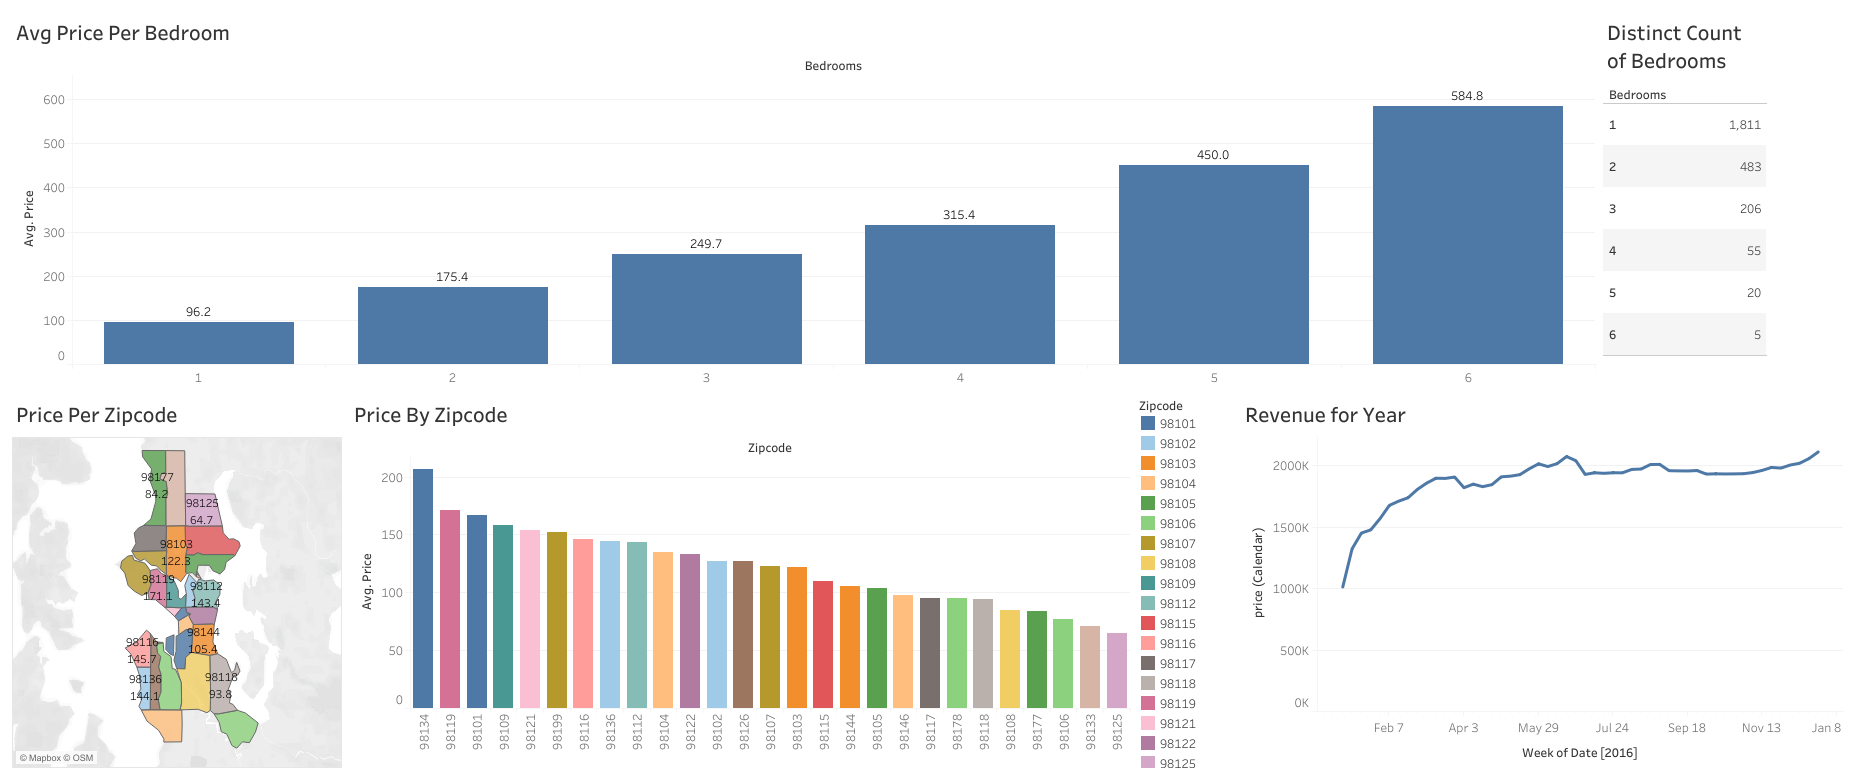

The page's visual inventory and layout, read from the dashboard file:
{"tool":"tableau","page":{"name":"Dashboard 1","canvas":[1000,1000],"units":"permille","ordinal":0},"visuals":[{"type":"worksheet","title":"Sheet 4","mark":"Automatic","rows":["price"],"cols":["bedrooms"],"box":[4.7,8.9,857.2,491.1]},{"type":"worksheet","title":"Sheet 5","mark":"Automatic","rows":["bedrooms"],"box":[861.9,8.9,133.4,491.1]},{"type":"worksheet","title":"Sheet 2","mark":"Multipolygon","box":[4.7,500,182.2,491.1]},{"type":"worksheet","title":"Sheet 1","mark":"Automatic","rows":["price"],"cols":["zipcode"],"box":[186.9,500,424.6,491.1]},{"type":"legend","title":"Sheet 1","param":"[federated.1v9adyr016qhsx17k2po80litfgk].[none:zipcode:ok]","box":[611.5,500,55,491.1]},{"type":"worksheet","title":"Sheet 3","mark":"Automatic","rows":["price (Calendar)"],"cols":["date"],"box":[666.5,500,328.9,491.1]}]}

Visuals, with their boxes on the dashboard's canvas, which has no fixed pixel size, in thousandths of its width and height (x1, y1, x2, y2). These are canvas units, not pixel positions in the 1854x779 screenshot, which may show the page scaled, cropped or inside an application window:
"Sheet 4" worksheet: box(5, 9, 862, 500)
"Sheet 5" worksheet: box(862, 9, 995, 500)
"Sheet 2" worksheet (Multipolygon marks): box(5, 500, 187, 991)
"Sheet 1" worksheet: box(187, 500, 612, 991)
"Sheet 1" legend: box(612, 500, 666, 991)
"Sheet 3" worksheet: box(666, 500, 995, 991)
